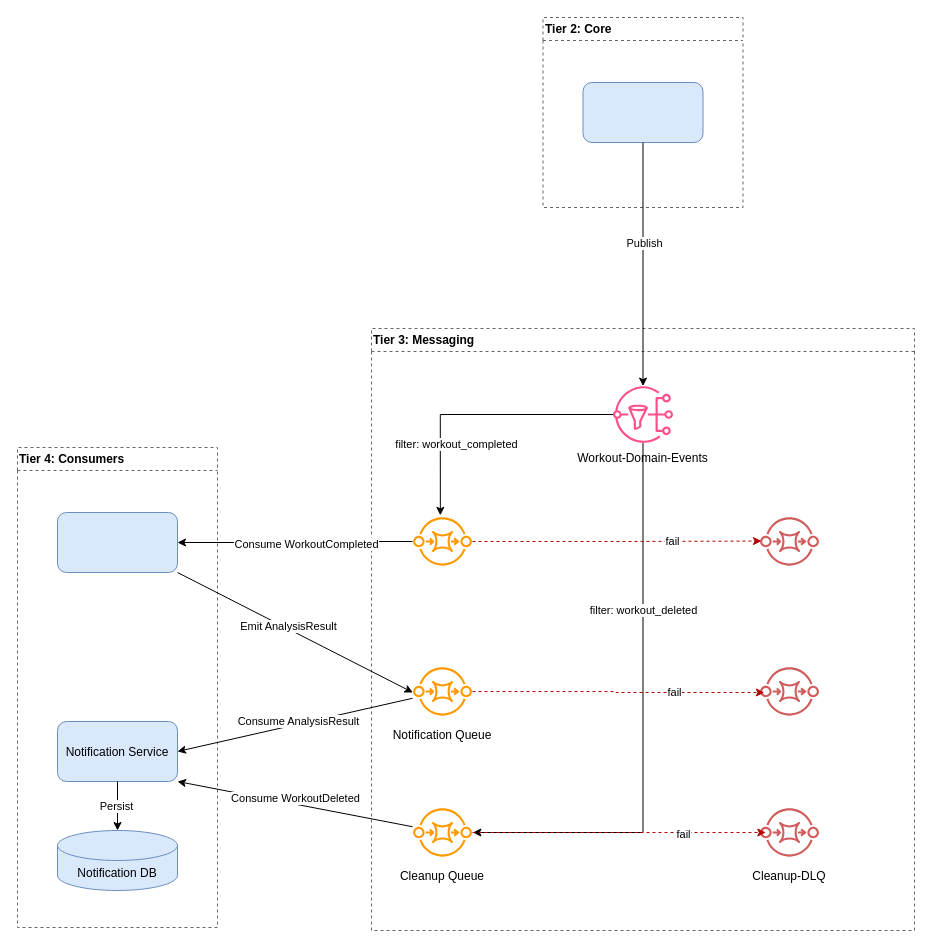
Image size: 932x948. Some labels were removed from this diagram. The centre of each missing label's shape, as x and y in pixels:
"Analytics -DLQ" goes at [789,541].
"Analytics Queue" goes at [442,541].
"Analytics Service" goes at [117,542].
"Notification-DLQ" goes at [789,691].
"Workout Management Service" goes at [642,112].
